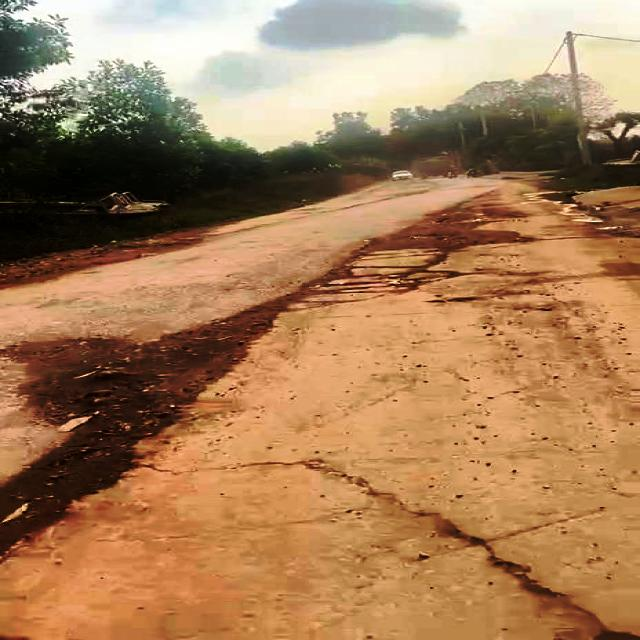pothole: (0, 327, 263, 510)
